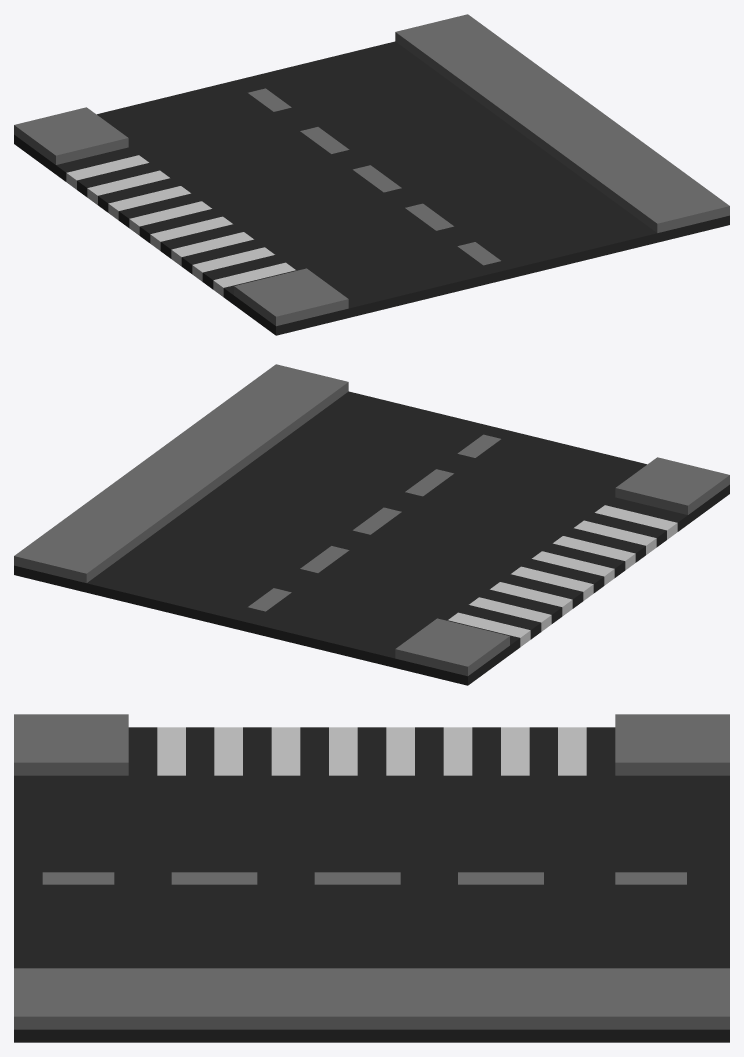
The model's file is road2.obj.
The picture shows the model from 3 angles, top to bottom: view 1: azimuth 30°, elevation 25°; view 2: azimuth 150°, elevation 25°; view 3: azimuth 270°, elevation 25°; orthographic projection. The views are drawn at different scales.
Size of the model in its own units: 5 by 0.2 by 5.
Materials: 1 (1 with a texture image).
